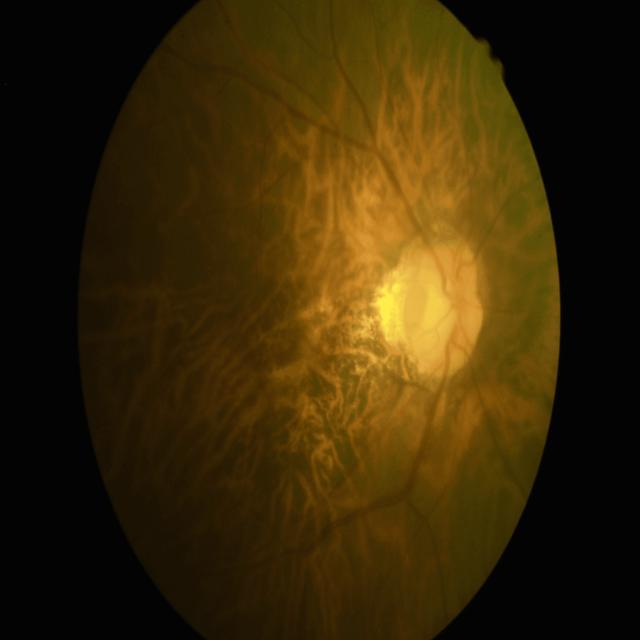cup: (418, 276, 472, 354)
disk: (404, 236, 482, 380)
